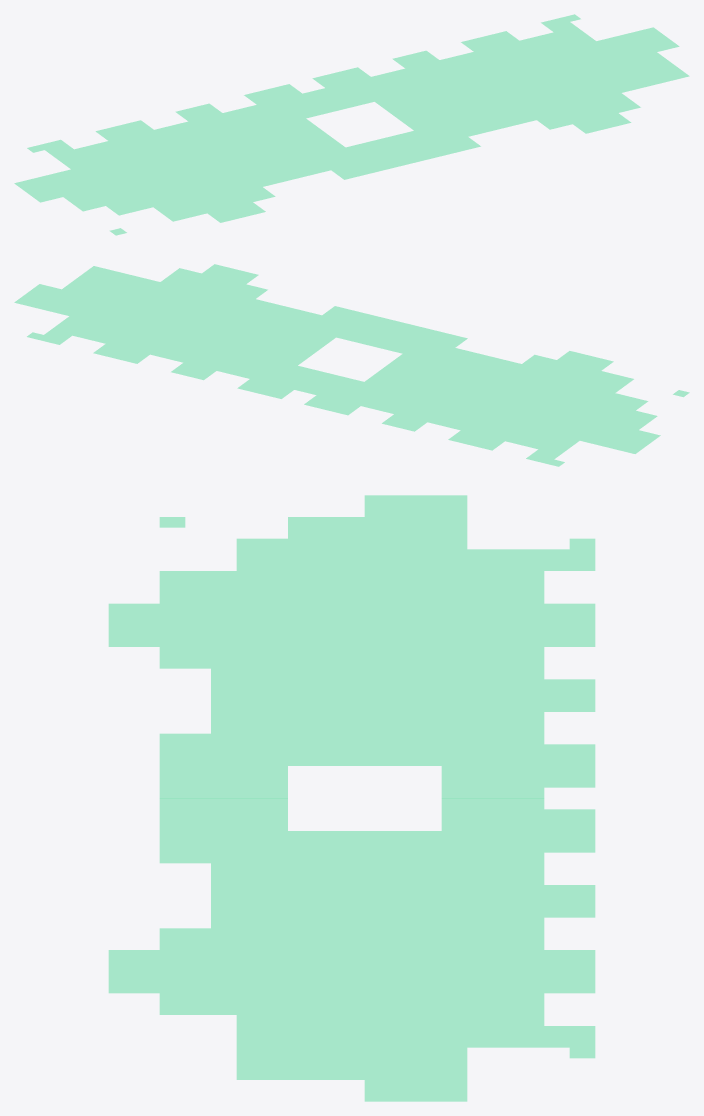
Rendered from navmesh.glb.
3 renders of one model, top to bottom at view 1: azimuth 30°, elevation 25°; view 2: azimuth 150°, elevation 25°; view 3: azimuth 270°, elevation 25°, orthographic. The views are drawn at different scales.
Parts seen in each view (by area): view 1: NAVMESH; view 2: NAVMESH; view 3: NAVMESH.
Part boxes in pixels (x1=…): NAVMESH: x1=14, y1=14, x2=689, y2=235; NAVMESH: x1=14, y1=264, x2=689, y2=466; NAVMESH: x1=108, y1=495, x2=595, y2=1101.
Size of the model in its own units: 14 by 0 by 4.75.
